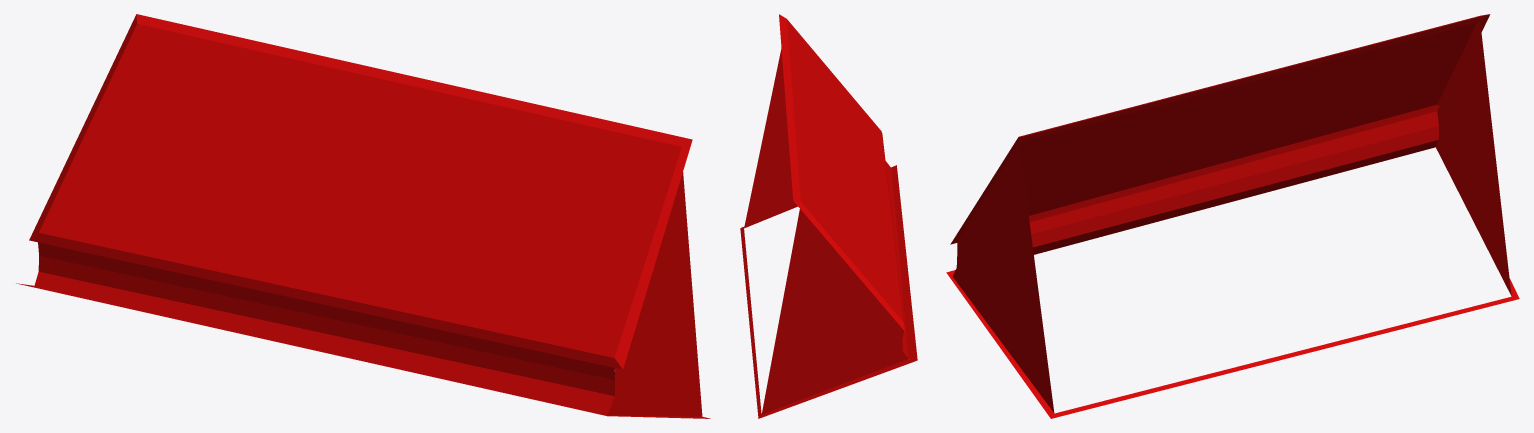
Rendered from countachLeftCase.glb.
The picture shows the model from 3 angles, left to right: view 1: azimuth 30°, elevation 25°; view 2: azimuth 150°, elevation 25°; view 3: azimuth 270°, elevation 25°; orthographic projection. The views are drawn at different scales.
Visible parts, largest first — view 1: CountachLeftPopupCase; view 2: CountachLeftPopupCase; view 3: CountachLeftPopupCase.
Boxes of the visible parts, <box> form: CountachLeftPopupCase: <box>16,14,710,418</box>; CountachLeftPopupCase: <box>740,14,917,418</box>; CountachLeftPopupCase: <box>946,14,1519,418</box>.
Bounding box in the file's own units: 4.03 × 2.49 × 4.79.
